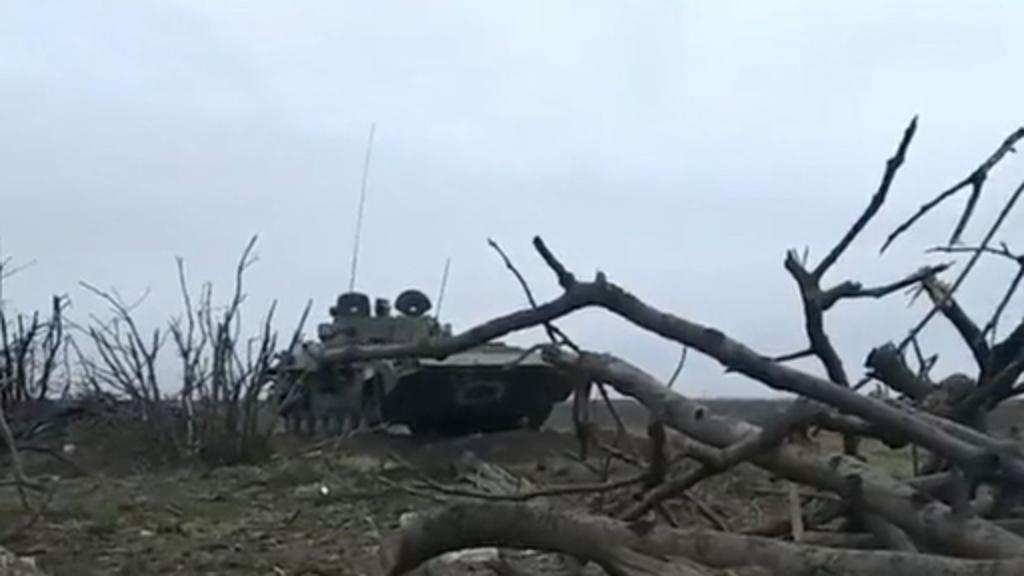APC-IFV: (268, 284, 578, 438)
